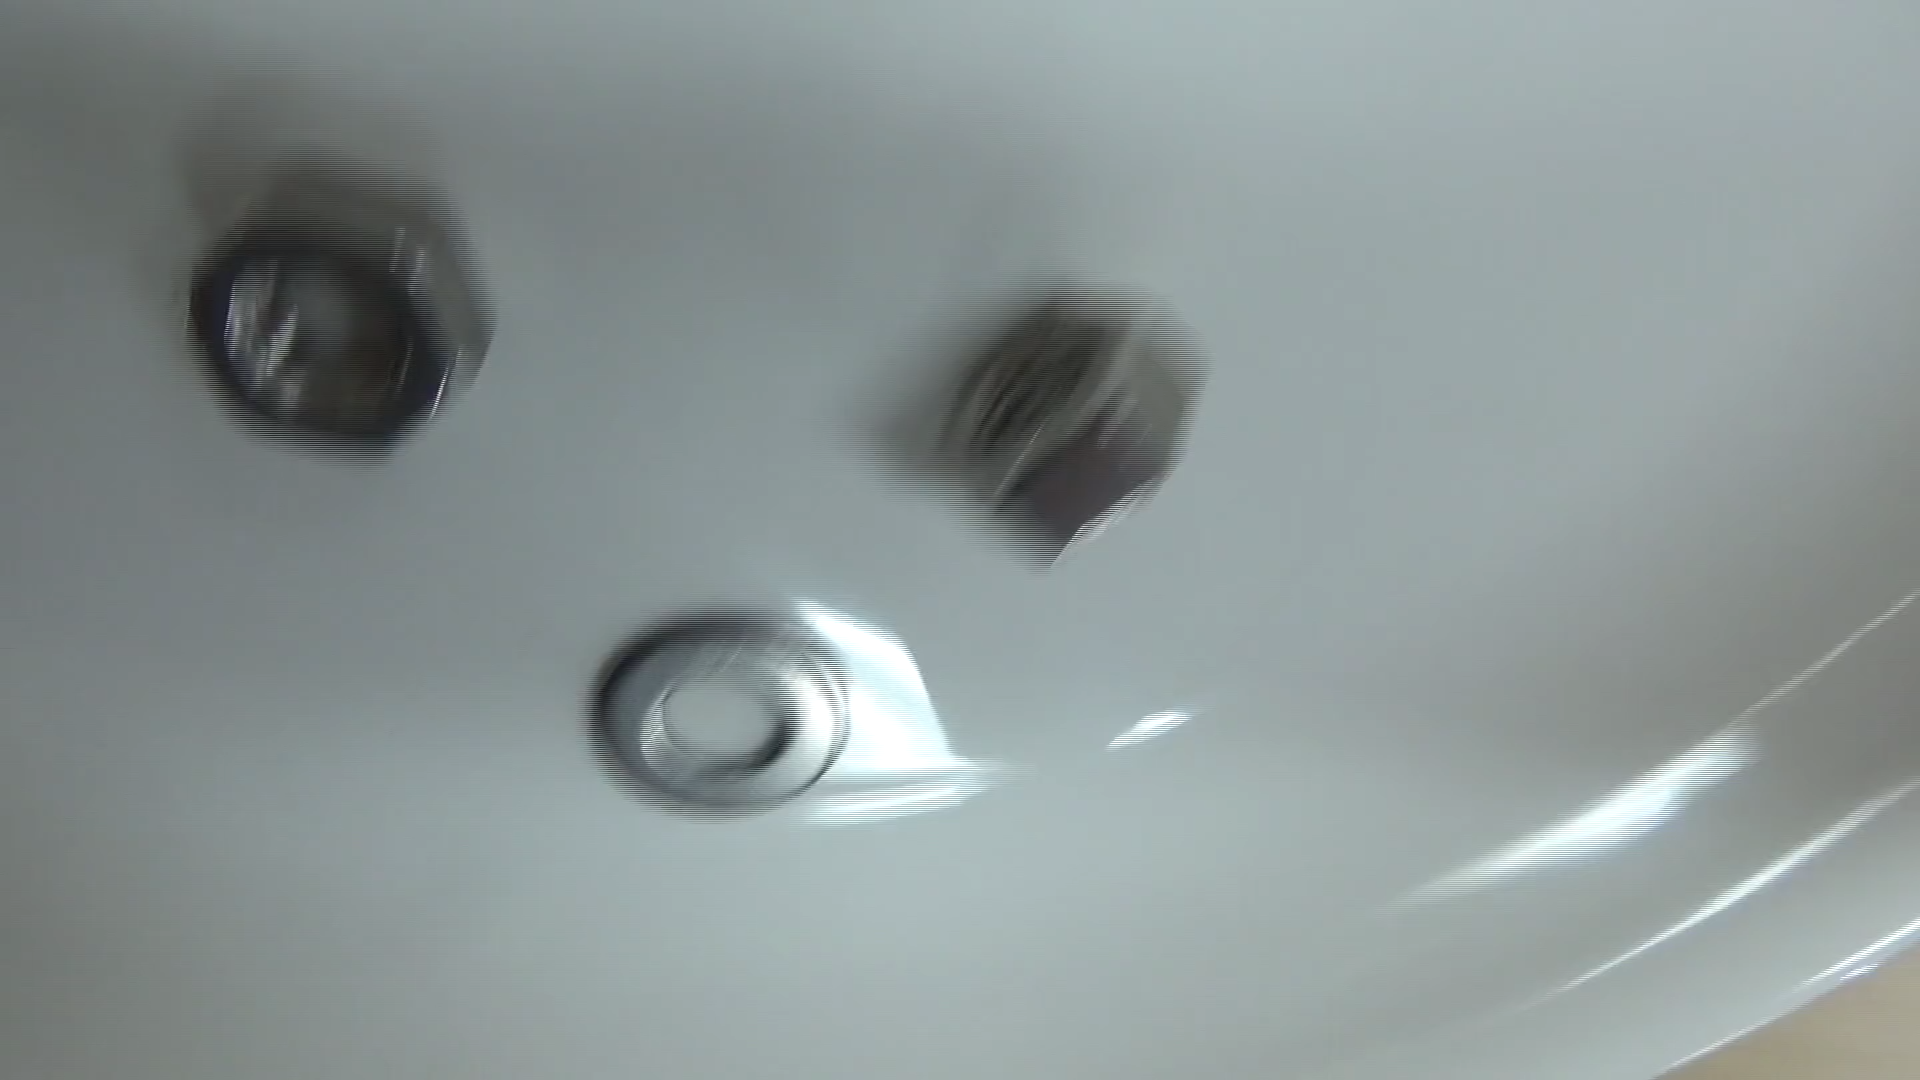nut: (154, 154, 518, 496), (926, 268, 1229, 570)
washer: (574, 564, 876, 853)
